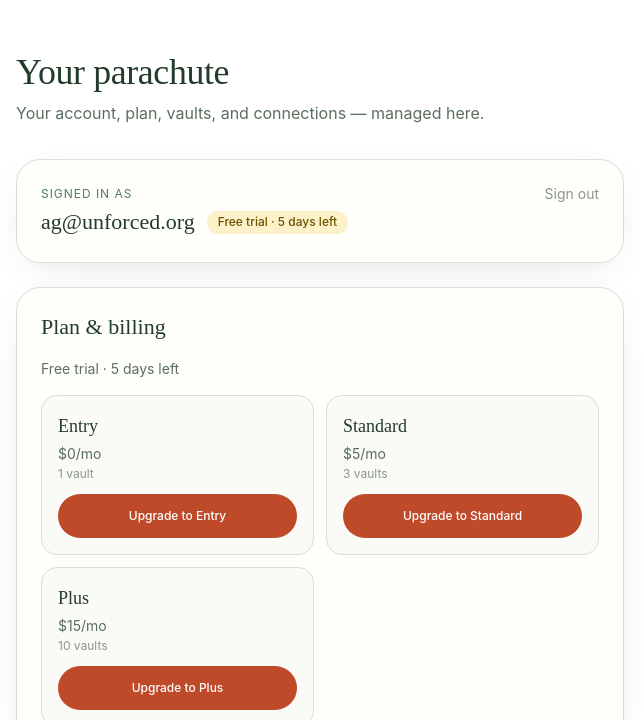
Scenario: Account — 'Your parachute', the four-card manager home › Billing — Stripe-direct redirects › honest checkout-error copy › checkout 409 already_subscribed → its own honest line, no redirect
Expected: the text "Entry" is shown, 58,412 -> 98,440
Click the button "Upgrade to Plus" at {"x": 178, "y": 688}, box 58,666 -> 297,710
(page scrolled)
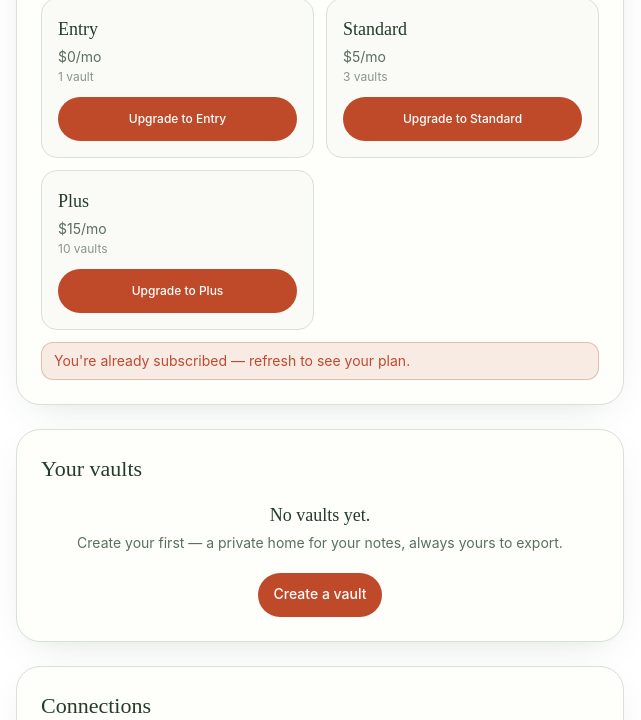
Expected: the text "You're already subscribed — refresh to see your plan." is shown, 41,342 -> 599,380
